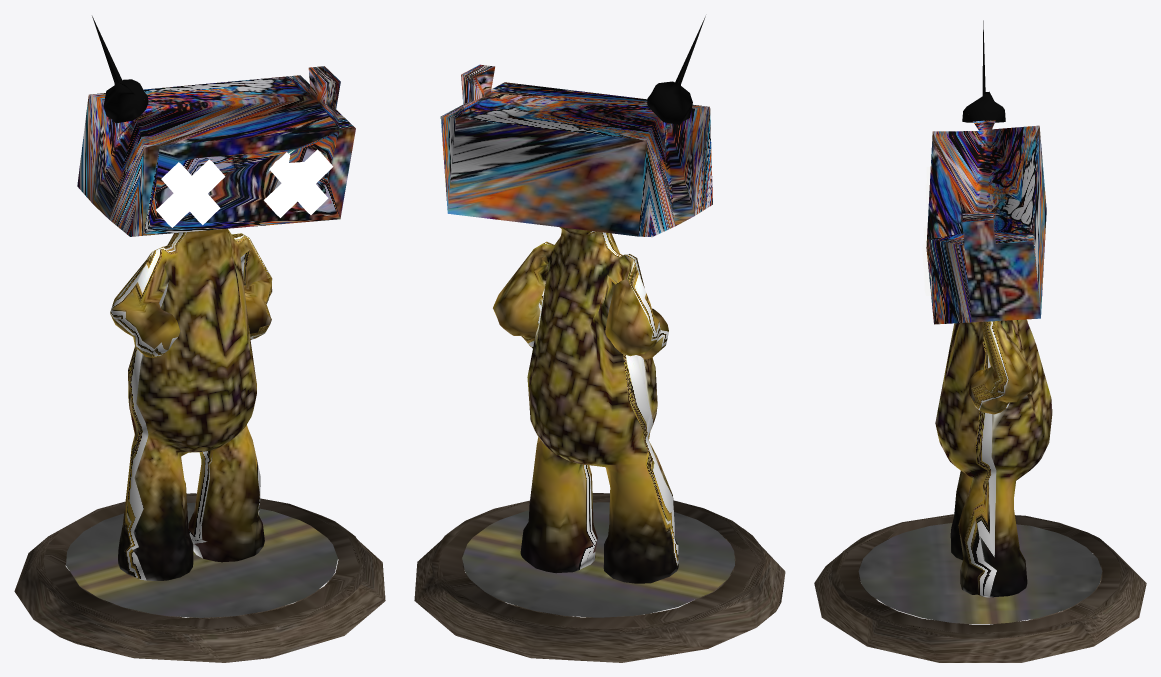
3 views of the same model, side by side, from view 1: azimuth 30°, elevation 25°; view 2: azimuth 150°, elevation 25°; view 3: azimuth 270°, elevation 25° (orthographic). The views are drawn at different scales.
Size of the model in its own units: 1.42 by 2.53 by 1.43.
Materials: 6 (4 with a texture image).
